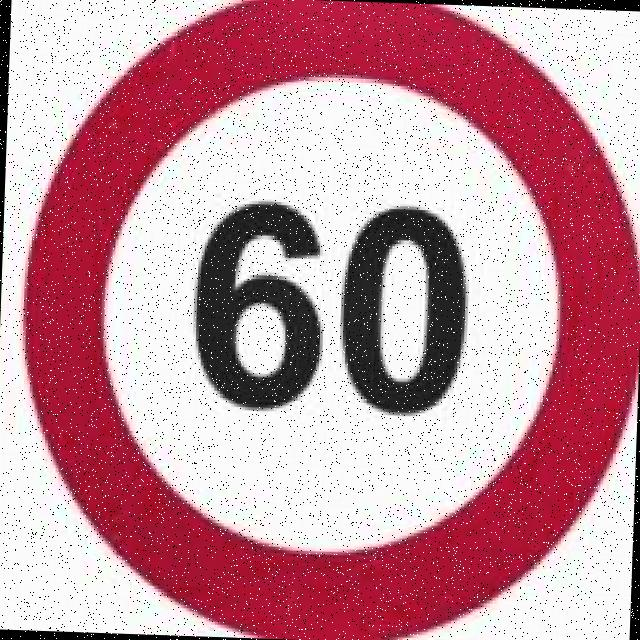Ograniczenie predkosci do 60: (15, 0, 636, 640)
